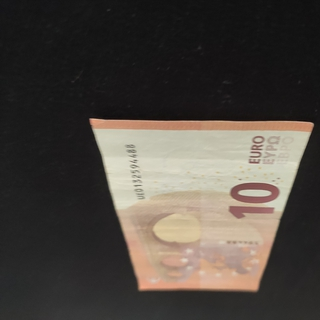10EUROBack: (88, 117, 314, 293)
